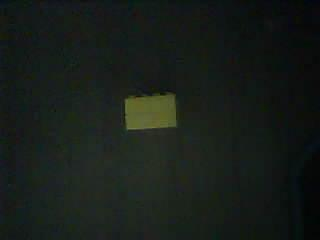lego: (124, 93, 178, 131)
